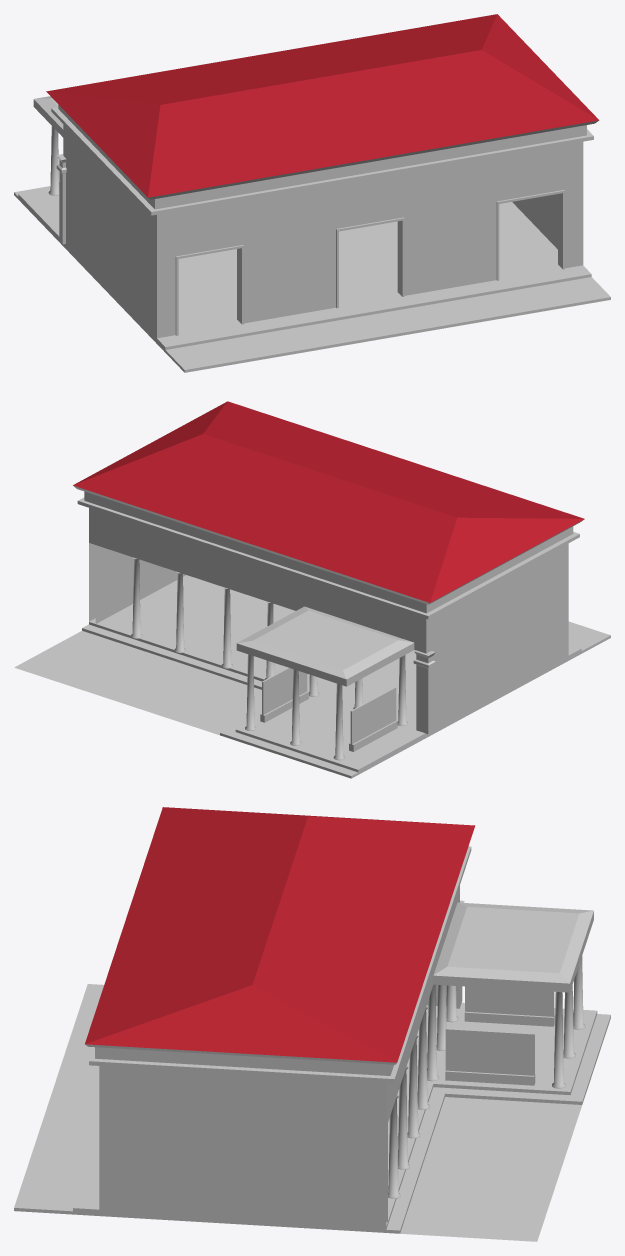
3 renders of one model, top to bottom at view 1: azimuth 30°, elevation 25°; view 2: azimuth 150°, elevation 25°; view 3: azimuth 270°, elevation 25°, orthographic. The views are drawn at different scales.
Parts seen in each view (by area): view 1: Plane_025, Plane_022, Plane_026, Cube_012, Plane_023, Circle_002_Circle_032; view 2: Plane_025, Plane_026, Plane_022, Plane_023, Cube_008, Cube_009, Cube_012, Circle_002_Circle_026, Circle_002_Circle_013, Circle_002_Circle_024, Circle_002_Circle_032, Circle_002_Circle_028 (+2 smaller); view 3: Plane_025, Plane_022, Plane_026, Plane_023, Cube_009, Cube_008, Circle_002_Circle_028, Circle_002_Circle_013, Circle_002_Circle_026, Circle_002_Circle_027, Circle_002_Circle_024, Circle_002_Circle_030 (+3 smaller).
Boxes of the visible parts, x1=… form: Plane_025: x1=46, y1=14, x2=599, y2=215; Plane_022: x1=63, y1=124, x2=583, y2=338; Plane_026: x1=14, y1=186, x2=610, y2=372; Cube_012: x1=56, y1=154, x2=66, y2=244; Plane_023: x1=33, y1=96, x2=63, y2=137; Circle_002_Circle_032: x1=48, y1=126, x2=59, y2=195; Plane_025: x1=73, y1=401, x2=584, y2=619; Plane_026: x1=14, y1=575, x2=610, y2=778; Plane_022: x1=89, y1=508, x2=568, y2=728; Plane_023: x1=236, y1=606, x2=414, y2=686; Cube_008: x1=349, y1=687, x2=397, y2=751; Cube_009: x1=260, y1=667, x2=308, y2=722; Cube_012: x1=413, y1=650, x2=435, y2=734; Circle_002_Circle_026: x1=221, y1=587, x2=232, y2=668; Circle_002_Circle_013: x1=131, y1=557, x2=142, y2=638; Circle_002_Circle_024: x1=174, y1=571, x2=185, y2=653; Circle_002_Circle_032: x1=333, y1=683, x2=344, y2=760; Circle_002_Circle_028: x1=245, y1=654, x2=256, y2=730; Plane_025: x1=85, y1=807, x2=475, y2=1083; Plane_022: x1=99, y1=885, x2=459, y2=1226; Plane_026: x1=14, y1=984, x2=610, y2=1241; Plane_023: x1=433, y1=902, x2=593, y2=992; Cube_009: x1=445, y1=1028, x2=535, y2=1085; Cube_008: x1=464, y1=986, x2=554, y2=1026; Circle_002_Circle_028: x1=552, y1=992, x2=565, y2=1088; Circle_002_Circle_013: x1=388, y1=1095, x2=400, y2=1198; Circle_002_Circle_026: x1=407, y1=1035, x2=420, y2=1138; Circle_002_Circle_027: x1=417, y1=1006, x2=429, y2=1109; Circle_002_Circle_024: x1=398, y1=1066, x2=409, y2=1169; Circle_002_Circle_030: x1=427, y1=984, x2=439, y2=1081.
Bounding box in the file's own units: 70.33 × 26.9 × 68.98.
